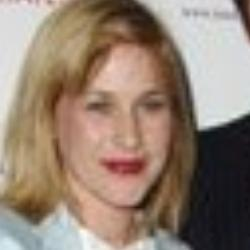face: (3, 2, 206, 239)
